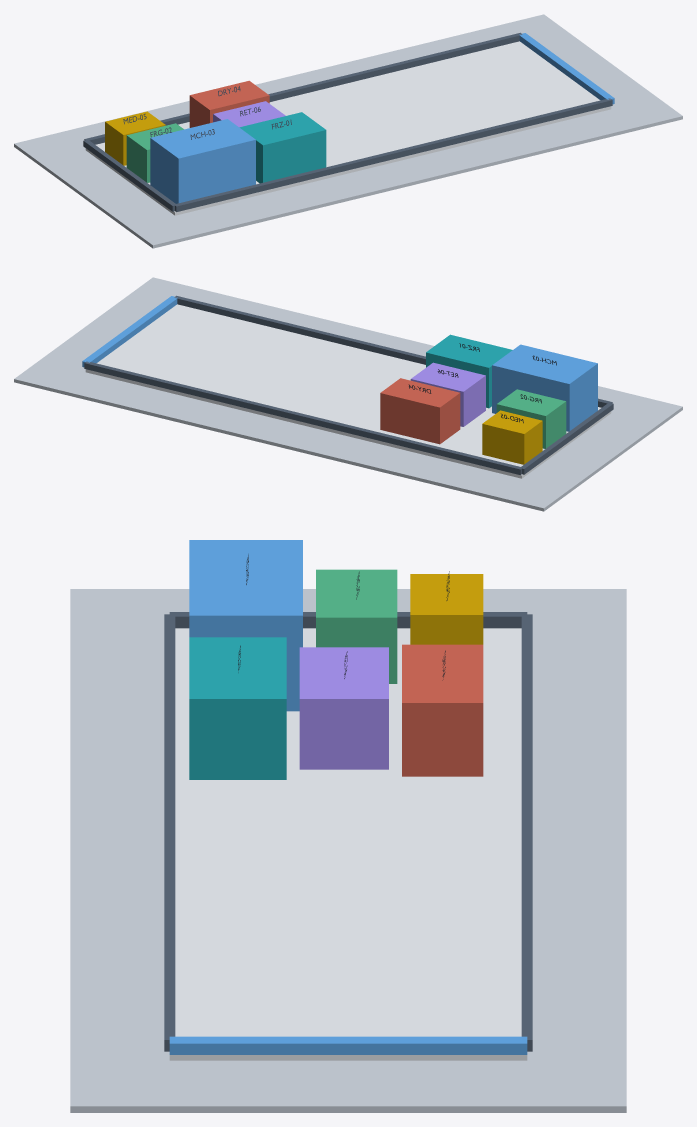
File: dockmind-load-plan.glb
3 renders of one model, top to bottom at view 1: azimuth 30°, elevation 25°; view 2: azimuth 150°, elevation 25°; view 3: azimuth 270°, elevation 25°, orthographic. The views are drawn at different scales.
Parts seen in each view (by area): view 1: dock-floor, truck-floor, MCH-03, FRZ-01, left-rail, right-rail, DRY-04, MED-05, FRG-02, rear-loading-zone, RET-06, front-rail; view 2: dock-floor, truck-floor, MCH-03, DRY-04, right-rail, MED-05, left-rail, FRZ-01, RET-06, FRG-02, rear-loading-zone, front-rail; view 3: dock-floor, truck-floor, FRZ-01, MCH-03, RET-06, DRY-04, rear-loading-zone, FRG-02, MED-05, left-rail, right-rail, front-rail.
Part boxes in pixels (left/top/right/bottom): dock-floor: left=14, top=14, right=682, bottom=248; truck-floor: left=85, top=41, right=611, bottom=215; MCH-03: left=150, top=119, right=255, bottom=203; FRZ-01: left=239, top=112, right=326, bottom=183; left-rail: left=174, top=98, right=612, bottom=212; right-rail: left=84, top=32, right=522, bottom=144; DRY-04: left=189, top=80, right=269, bottom=127; MED-05: left=105, top=111, right=165, bottom=165; FRG-02: left=126, top=123, right=183, bottom=182; rear-loading-zone: left=519, top=33, right=614, bottom=104; RET-06: left=213, top=101, right=285, bottom=127; front-rail: left=83, top=139, right=176, bottom=211; dock-floor: left=14, top=277, right=682, bottom=511; truck-floor: left=85, top=304, right=611, bottom=478; MCH-03: left=492, top=344, right=597, bottom=431; DRY-04: left=380, top=378, right=460, bottom=444; right-rail: left=84, top=361, right=522, bottom=475; MED-05: left=482, top=410, right=542, bottom=464; left-rail: left=174, top=295, right=612, bottom=407; FRZ-01: left=426, top=334, right=512, bottom=408; RET-06: left=410, top=362, right=485, bottom=426; FRG-02: left=496, top=389, right=566, bottom=448; rear-loading-zone: left=82, top=296, right=177, bottom=367; front-rail: left=521, top=402, right=613, bottom=474; dock-floor: left=70, top=589, right=626, bottom=1112; truck-floor: left=169, top=628, right=527, bottom=1060; FRZ-01: left=189, top=637, right=286, bottom=779; MCH-03: left=189, top=540, right=302, bottom=711; RET-06: left=299, top=647, right=388, bottom=769; DRY-04: left=402, top=644, right=483, bottom=776; rear-loading-zone: left=169, top=1036, right=527, bottom=1054; FRG-02: left=316, top=569, right=397, bottom=683; MED-05: left=410, top=574, right=483, bottom=644; left-rail: left=164, top=614, right=175, bottom=1051; right-rail: left=521, top=614, right=532, bottom=1051; front-rail: left=169, top=612, right=527, bottom=628.
Bounding box in the file's own units: 13.56 × 1.5 × 6.16.
